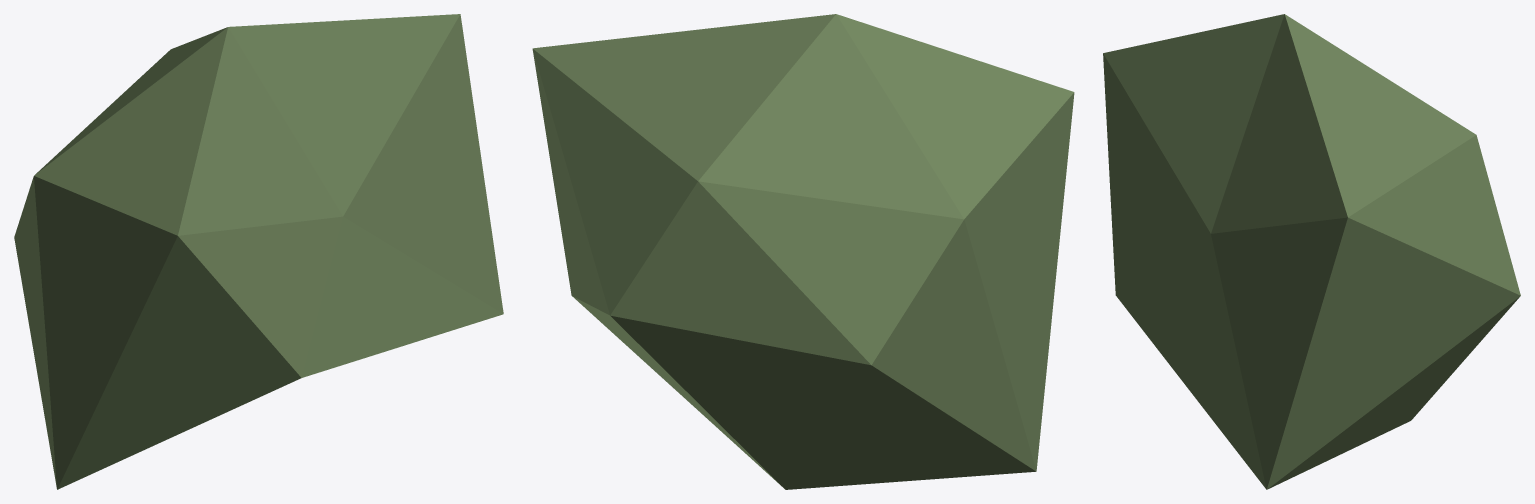
File: bush_6.glb
3 views of the same model, side by side, from view 1: azimuth 30°, elevation 25°; view 2: azimuth 150°, elevation 25°; view 3: azimuth 270°, elevation 25° (orthographic). The views are drawn at different scales.
Parts seen in each view (by area): view 1: bush_6.001; view 2: bush_6.001; view 3: bush_6.001.
Boxes of the visible parts, bbox=[...] form: bush_6.001: bbox=[14, 14, 503, 489]; bush_6.001: bbox=[532, 14, 1074, 489]; bush_6.001: bbox=[1103, 14, 1520, 489].
Bounding box in the file's own units: 1.7 × 1.49 × 1.37.
